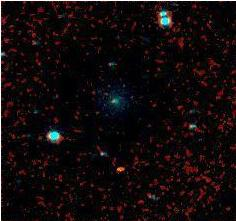star: (105, 153, 135, 183)
